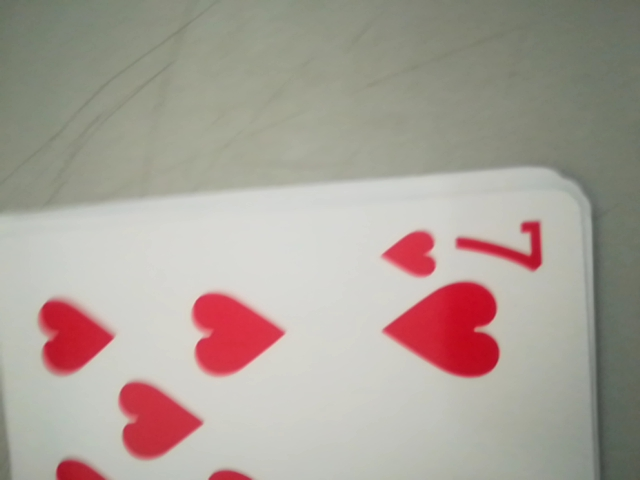hx 7: (379, 207, 552, 283)
